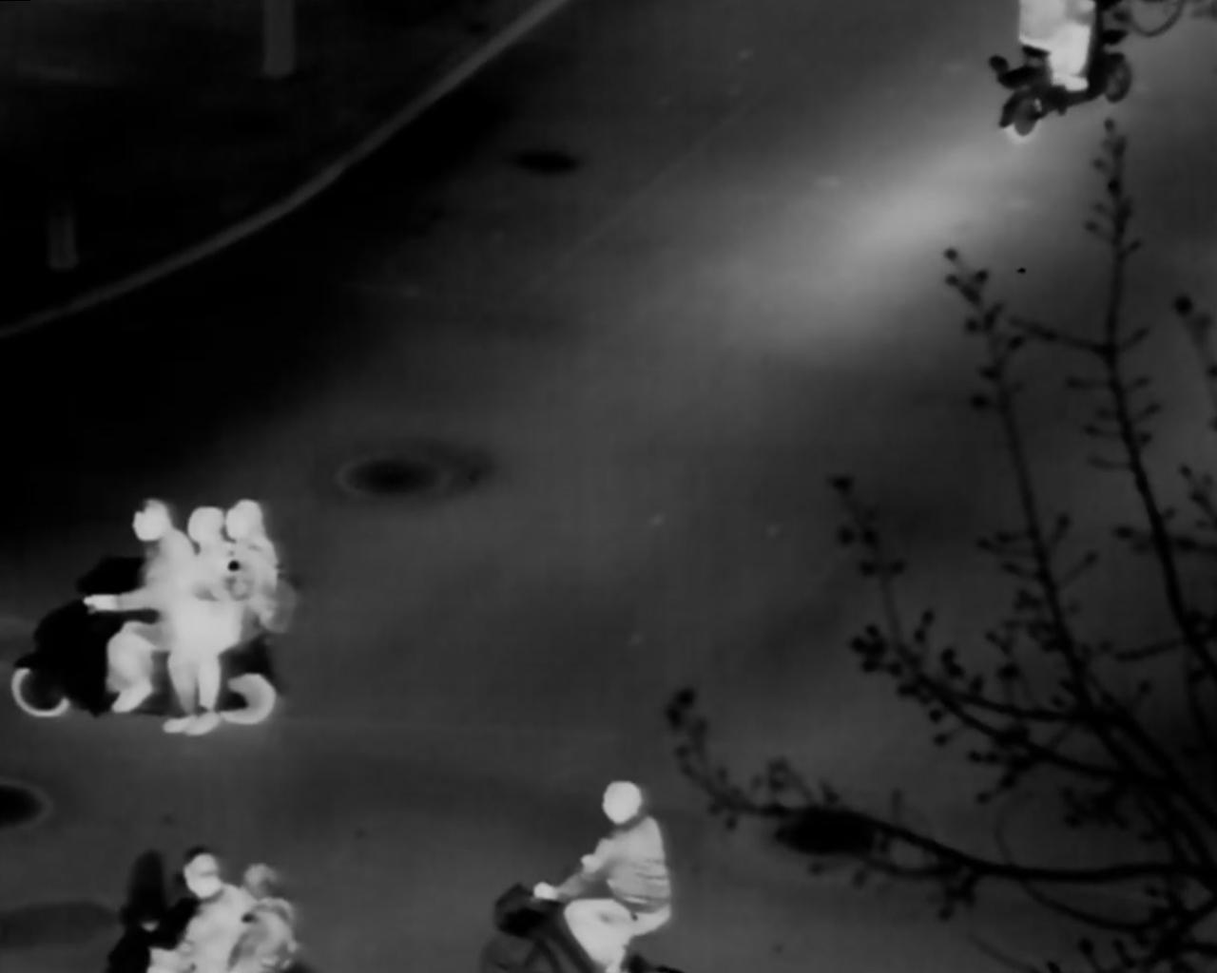person: (531, 776, 674, 973), (78, 493, 196, 715), (184, 494, 283, 737), (167, 499, 228, 733), (145, 843, 237, 973), (236, 859, 299, 973)
